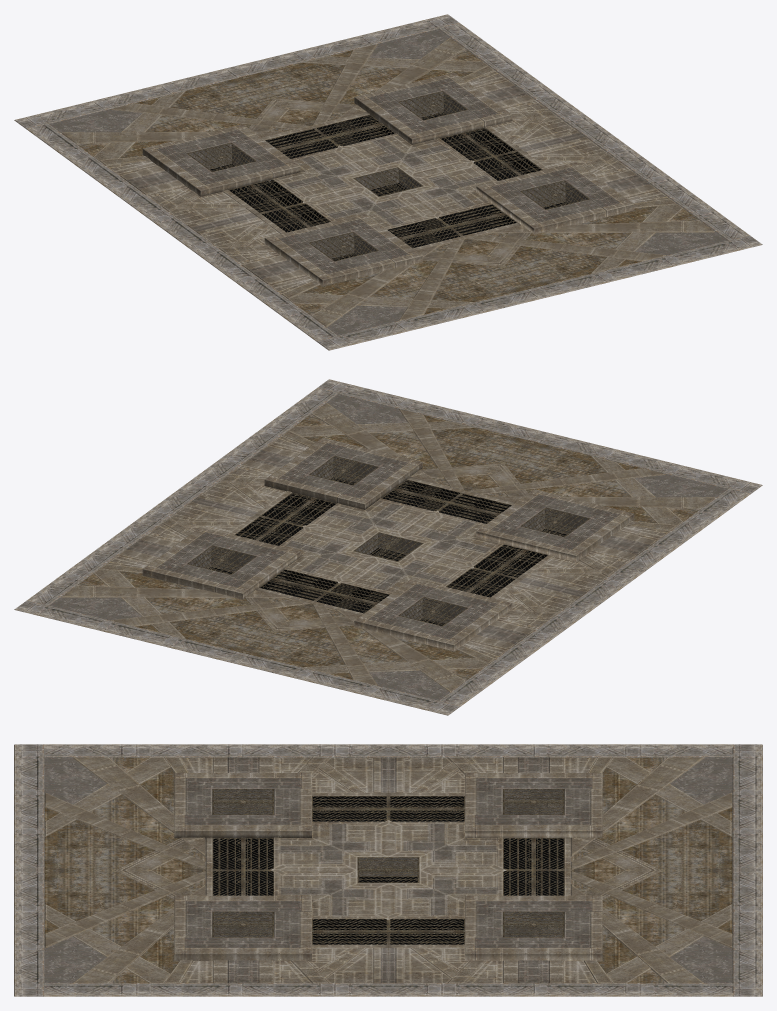
3 renders of one model, top to bottom at view 1: azimuth 30°, elevation 25°; view 2: azimuth 150°, elevation 25°; view 3: azimuth 270°, elevation 25°, orthographic. The views are drawn at different scales.
Visible parts, largest first — view 1: n5r2.005, n5r2.006, n5r2.007, n5r2.001, n5r2.003, n5r2.008, n5r2, n5r2.004, n5r2.002, n5r2.009; view 2: n5r2.005, n5r2.006, n5r2.007, n5r2.001, n5r2.003, n5r2.008, n5r2, n5r2.004, n5r2.002, n5r2.009; view 3: n5r2.005, n5r2.006, n5r2.007, n5r2.001, n5r2.003, n5r2.008, n5r2, n5r2.004, n5r2.002, n5r2.009.
Part boxes in pixels (x1,y1,x2,y2): n5r2.005: [61, 37, 715, 327]; n5r2.006: [14, 14, 762, 350]; n5r2.007: [78, 50, 698, 314]; n5r2.001: [187, 91, 589, 261]; n5r2.003: [49, 29, 727, 335]; n5r2.008: [230, 115, 540, 241]; n5r2: [110, 59, 666, 304]; n5r2.004: [210, 112, 567, 260]; n5r2.002: [220, 105, 556, 247]; n5r2.009: [190, 77, 586, 287]; n5r2.005: [61, 402, 715, 692]; n5r2.006: [14, 379, 762, 715]; n5r2.007: [78, 415, 698, 679]; n5r2.001: [187, 456, 589, 626]; n5r2.003: [49, 394, 727, 700]; n5r2.008: [236, 480, 546, 606]; n5r2: [110, 424, 666, 669]; n5r2.004: [209, 477, 566, 625]; n5r2.002: [220, 470, 556, 612]; n5r2.009: [190, 442, 586, 652]; n5r2.005: [44, 757, 732, 983]; n5r2.006: [14, 744, 762, 996]; n5r2.007: [44, 757, 732, 983]; n5r2.001: [212, 789, 564, 944]; n5r2.003: [44, 757, 732, 983]; n5r2.008: [213, 796, 563, 938]; n5r2: [90, 762, 686, 977]; n5r2.004: [213, 816, 563, 944]; n5r2.002: [212, 796, 564, 944]; n5r2.009: [114, 822, 662, 918].
Size of the model in its own units: 39 by 2 by 49.
Materials: 10 (8 with a texture image).
